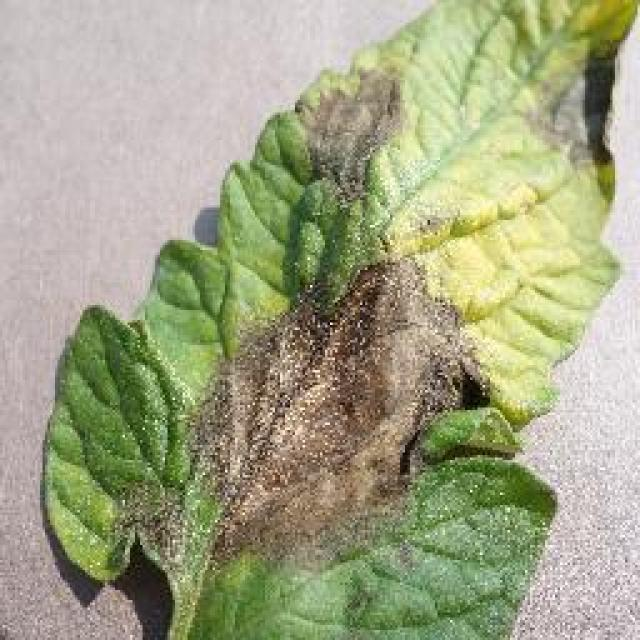Tomato Late Blight: (102, 33, 540, 587)
